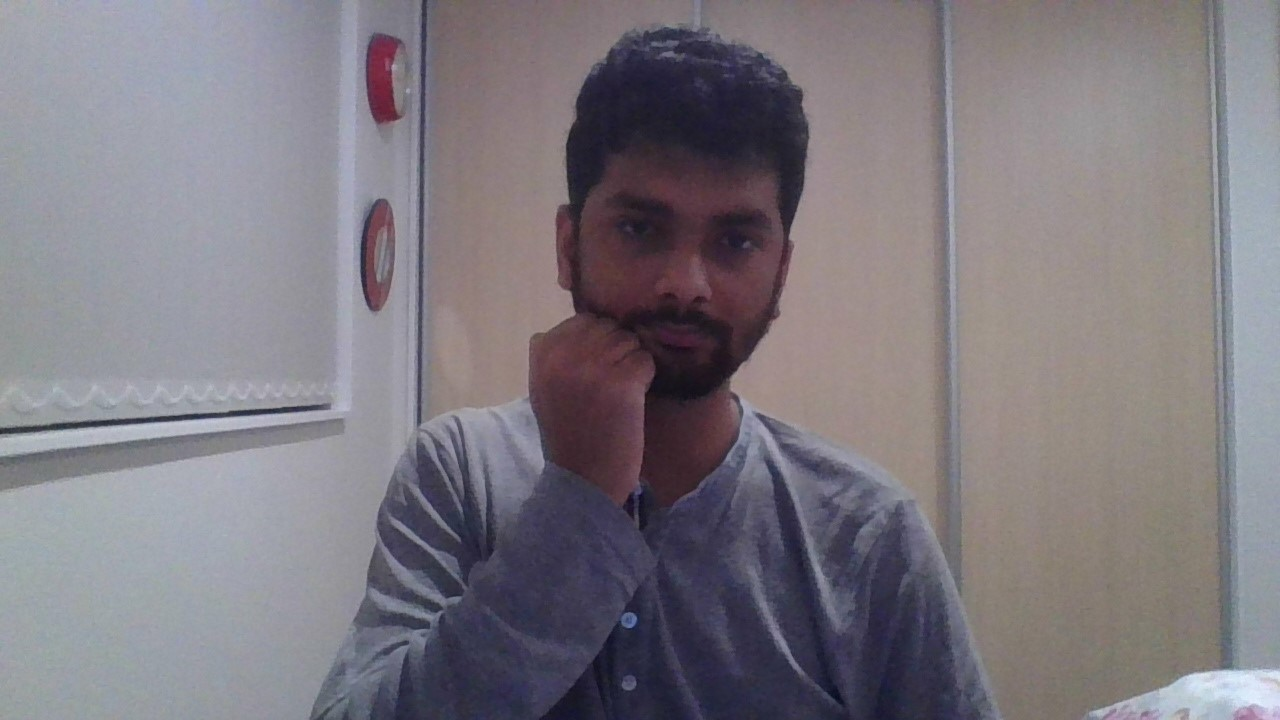day: (528, 309, 658, 508)
